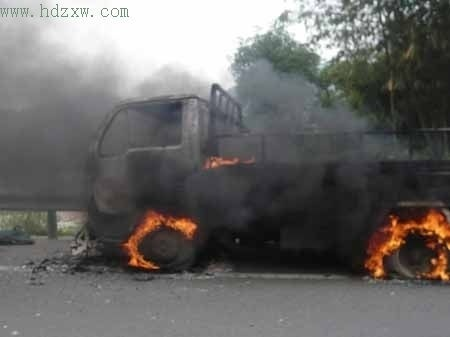fire: (362, 205, 449, 283), (121, 207, 201, 271), (200, 151, 251, 167)
